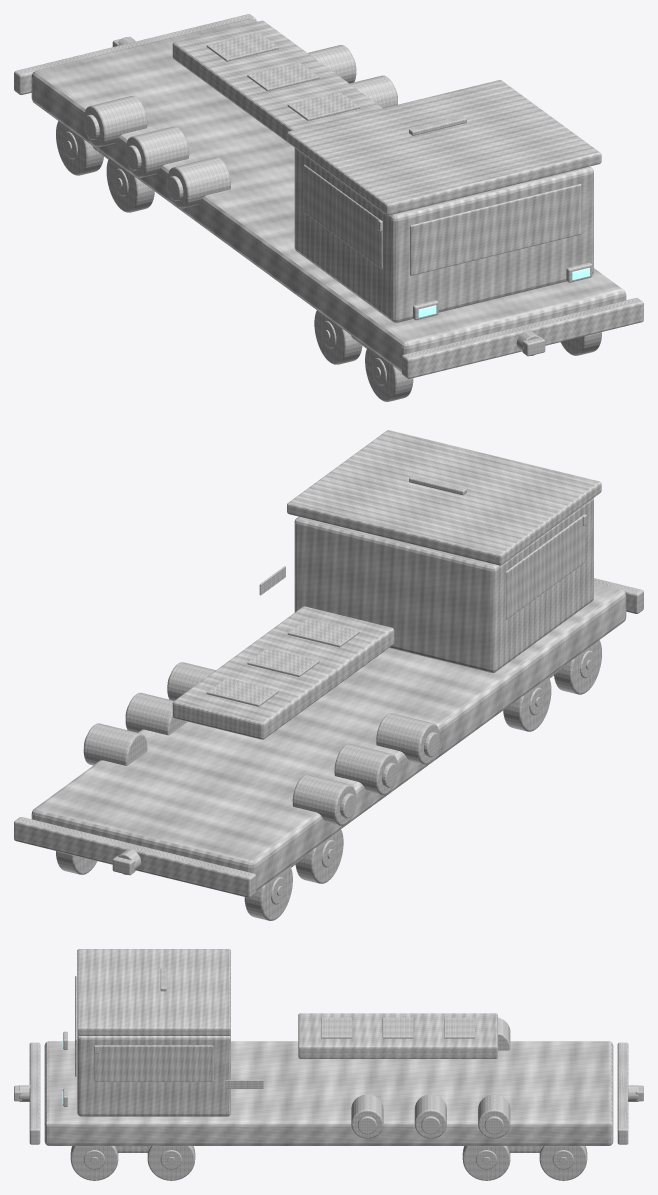
File: locomotive_variant_d.glb
3 views of the same model, one above another, from view 1: azimuth 30°, elevation 25°; view 2: azimuth 150°, elevation 25°; view 3: azimuth 270°, elevation 25° (orthographic). The views are drawn at different scales.
Visible parts, largest first — view 1: Locomotive underframe.003, Upper equipment pod, Service cab lower, Roof equipment spine.003, Front glass, Front buffer beam.003, Side glass, Traction motor.002, Traction motor, Traction motor.001, Rear buffer beam.003, Rail wheel.028 (+9 smaller); view 2: Locomotive underframe.003, Service cab lower, Upper equipment pod, Roof equipment spine.003, Rear buffer beam.003, Side glass, Traction motor.005, Traction motor.002, Traction motor.001, Traction motor, Traction motor.004, Rail wheel.026 (+7 smaller); view 3: Locomotive underframe.003, Upper equipment pod, Service cab lower, Roof equipment spine.003, Side glass.001, Front buffer beam.003, Rear buffer beam.003, Rail wheel.025, Rail wheel.027, Rail wheel.029, Rail wheel.031, Traction motor.003 (+7 smaller).
Part boxes in pixels (x1,y1,x2,y2): Locomotive underframe.003: (31, 18, 626, 371); Upper equipment pod: (287, 80, 601, 215); Service cab lower: (294, 148, 593, 322); Roof equipment spine.003: (172, 20, 382, 147); Front glass: (410, 184, 581, 275); Front buffer beam.003: (401, 298, 643, 378); Side glass: (303, 164, 382, 269); Traction motor.002: (83, 96, 147, 147); Traction motor: (167, 157, 230, 208); Traction motor.001: (125, 126, 189, 177); Rear buffer beam.003: (14, 14, 256, 94); Rail wheel.028: (106, 158, 154, 212); Locomotive underframe.003: (31, 583, 626, 890); Service cab lower: (294, 498, 593, 672); Upper equipment pod: (287, 430, 601, 565); Roof equipment spine.003: (172, 606, 394, 739); Rear buffer beam.003: (14, 817, 256, 897); Side glass: (506, 516, 585, 619); Traction motor.005: (83, 723, 147, 765); Traction motor.002: (292, 774, 356, 825); Traction motor.001: (334, 743, 397, 795); Traction motor: (376, 713, 439, 764); Traction motor.004: (125, 692, 187, 735); Rail wheel.026: (503, 677, 551, 731); Locomotive underframe.003: (44, 1041, 613, 1145); Upper equipment pod: (77, 949, 230, 1035); Service cab lower: (77, 1035, 230, 1116); Roof equipment spine.003: (298, 1013, 497, 1058); Side glass.001: (94, 1045, 213, 1081); Front buffer beam.003: (29, 1042, 40, 1144); Rear buffer beam.003: (617, 1042, 628, 1144); Rail wheel.025: (70, 1146, 118, 1180); Rail wheel.027: (147, 1146, 195, 1180); Rail wheel.029: (462, 1146, 510, 1180); Rail wheel.031: (539, 1146, 587, 1180); Traction motor.003: (351, 1094, 383, 1138).
Size of what is drawn, in the model's own units: 5.94 by 4.74 by 16.39.
Materials: 6 (6 with a texture image).
